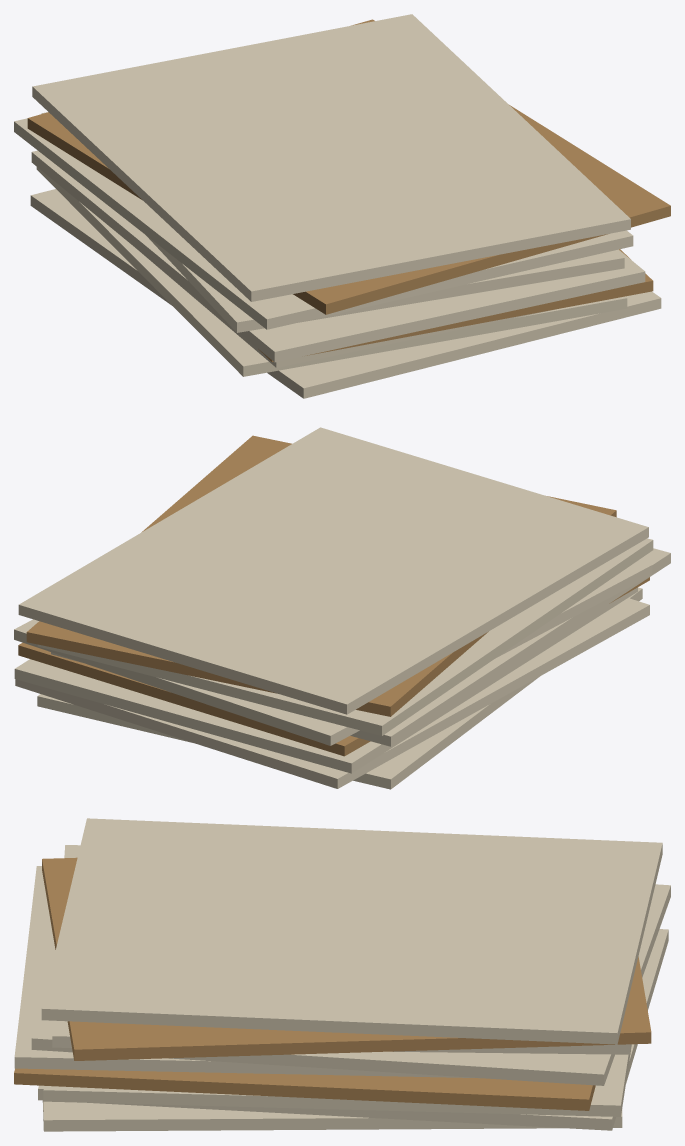
The model's file is months-old-newspapers-every.glb.
The picture shows the model from 3 angles, top to bottom: view 1: azimuth 30°, elevation 25°; view 2: azimuth 150°, elevation 25°; view 3: azimuth 270°, elevation 25°; orthographic projection. The views are drawn at different scales.
Bounding box in the file's own units: 1.07 × 0.233 × 1.31.
